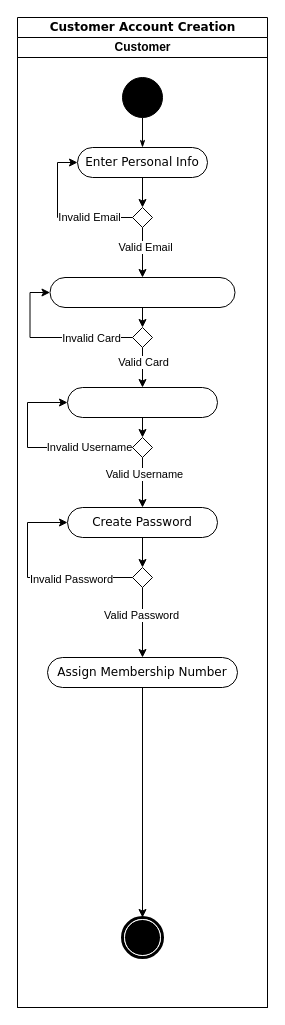
Image size: 285x1025. Some labels were removed from this diagram. Here are the shapes that lost their labels. From the top down, the centre of each, then its label:
At [142,292]: "Enter Payment Information".
At [142,402]: "Create Username".
